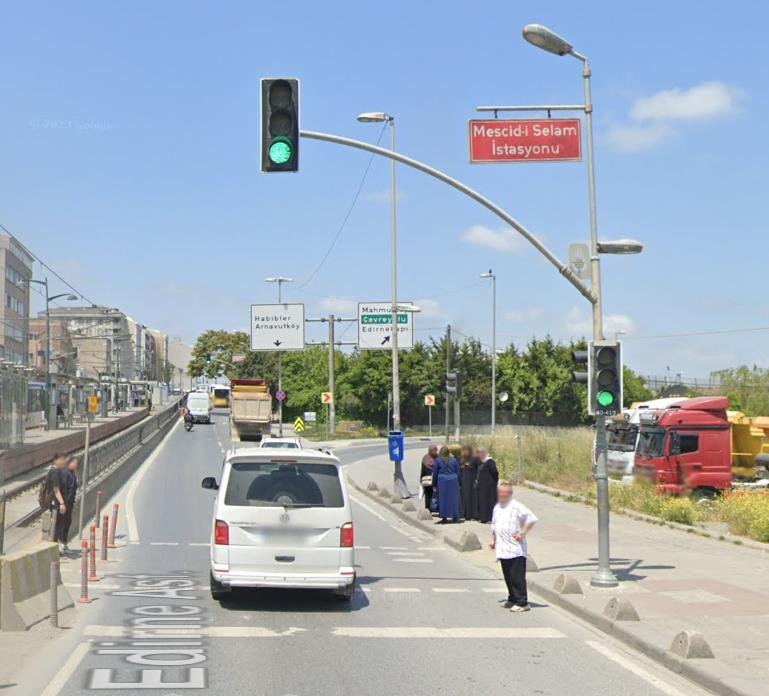greenlight: (264, 79, 303, 169), (590, 345, 619, 410)
